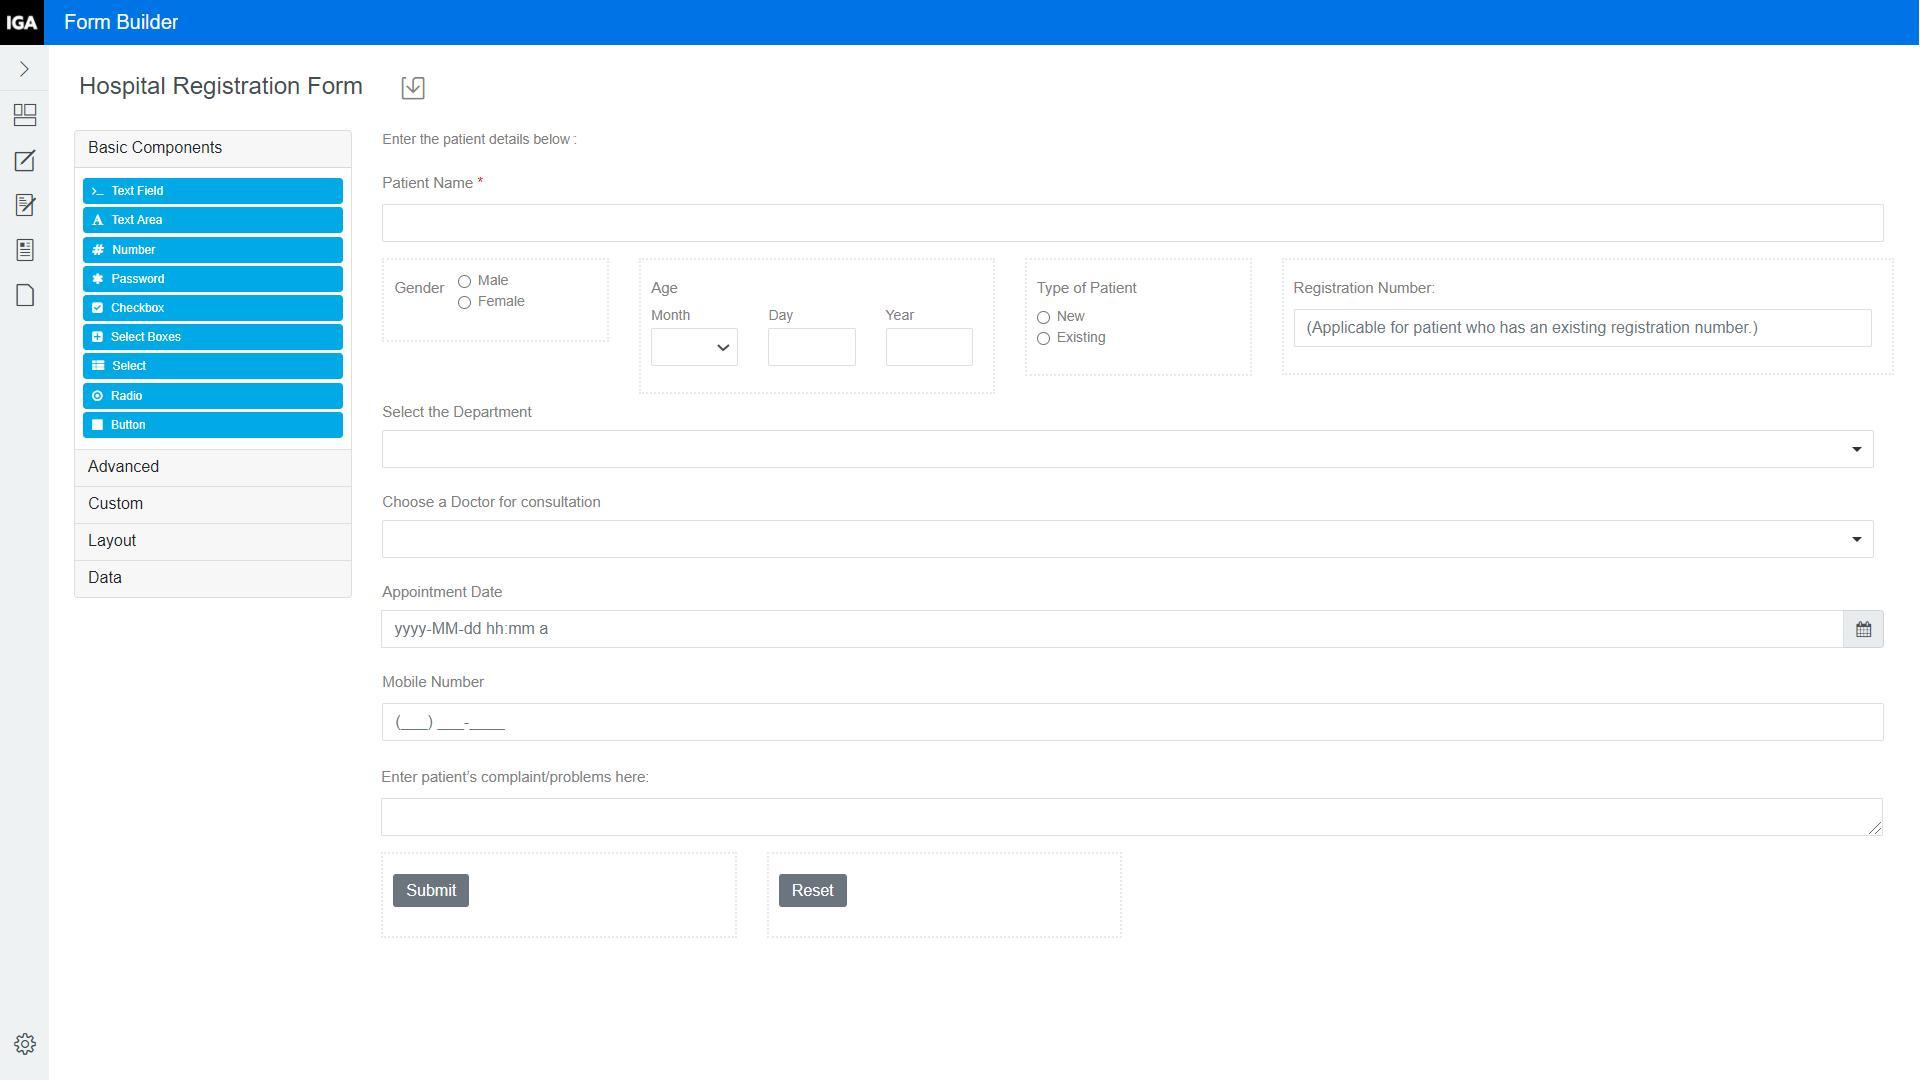button: (393, 874, 472, 909), (779, 874, 849, 907)
dropdown: (382, 430, 1879, 472), (381, 520, 1876, 560), (651, 328, 740, 368)
icon: (76, 74, 368, 98), (12, 142, 42, 182), (11, 190, 40, 225), (397, 75, 431, 104), (11, 102, 44, 131), (12, 233, 40, 268), (12, 281, 40, 314), (12, 54, 41, 84), (92, 357, 108, 375), (91, 214, 107, 231), (91, 243, 107, 260), (91, 301, 105, 316), (91, 272, 107, 286), (92, 390, 105, 406), (92, 331, 105, 345)
input: (381, 702, 1887, 744), (380, 796, 1886, 839), (381, 609, 1845, 651), (1291, 307, 1876, 349), (770, 328, 856, 369), (886, 328, 975, 368)
label: (381, 770, 653, 787), (380, 495, 603, 512), (1292, 278, 1437, 303), (381, 401, 535, 422), (380, 135, 582, 148), (380, 584, 508, 603), (1033, 278, 1143, 298), (380, 673, 488, 692), (382, 173, 487, 193), (1055, 328, 1117, 348), (480, 293, 529, 313), (394, 278, 444, 295), (651, 306, 695, 324), (477, 272, 510, 291), (651, 280, 686, 295), (886, 306, 918, 323), (1058, 309, 1091, 324), (767, 309, 796, 324)
radio: (1038, 332, 1052, 347), (459, 276, 473, 289), (459, 295, 472, 310), (1036, 313, 1052, 324)
